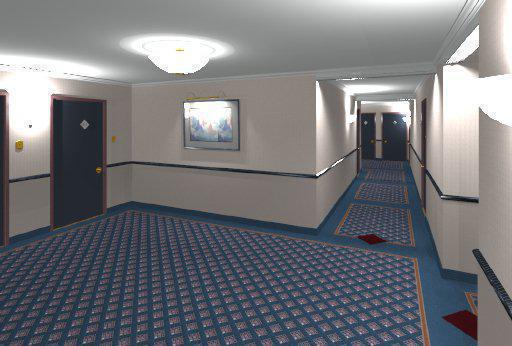Puerta: (51, 97, 107, 219), (382, 112, 405, 161)
